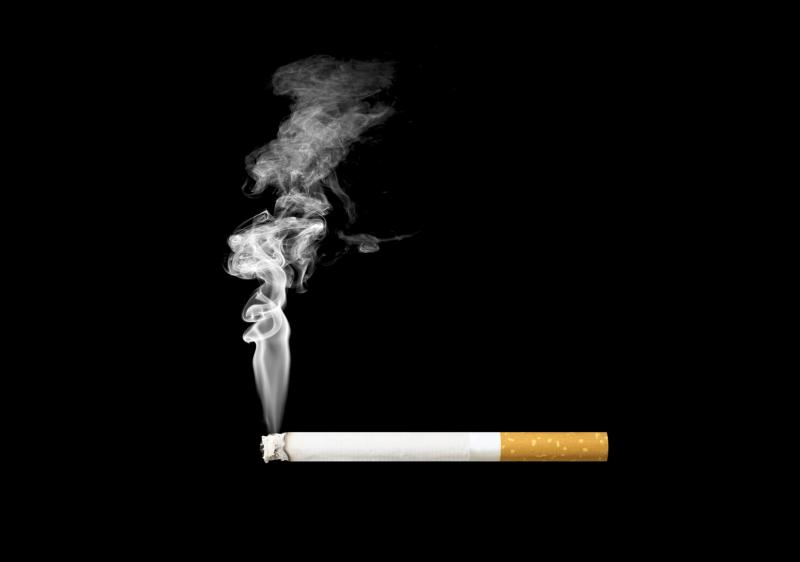cigarette: (245, 398, 628, 483)
